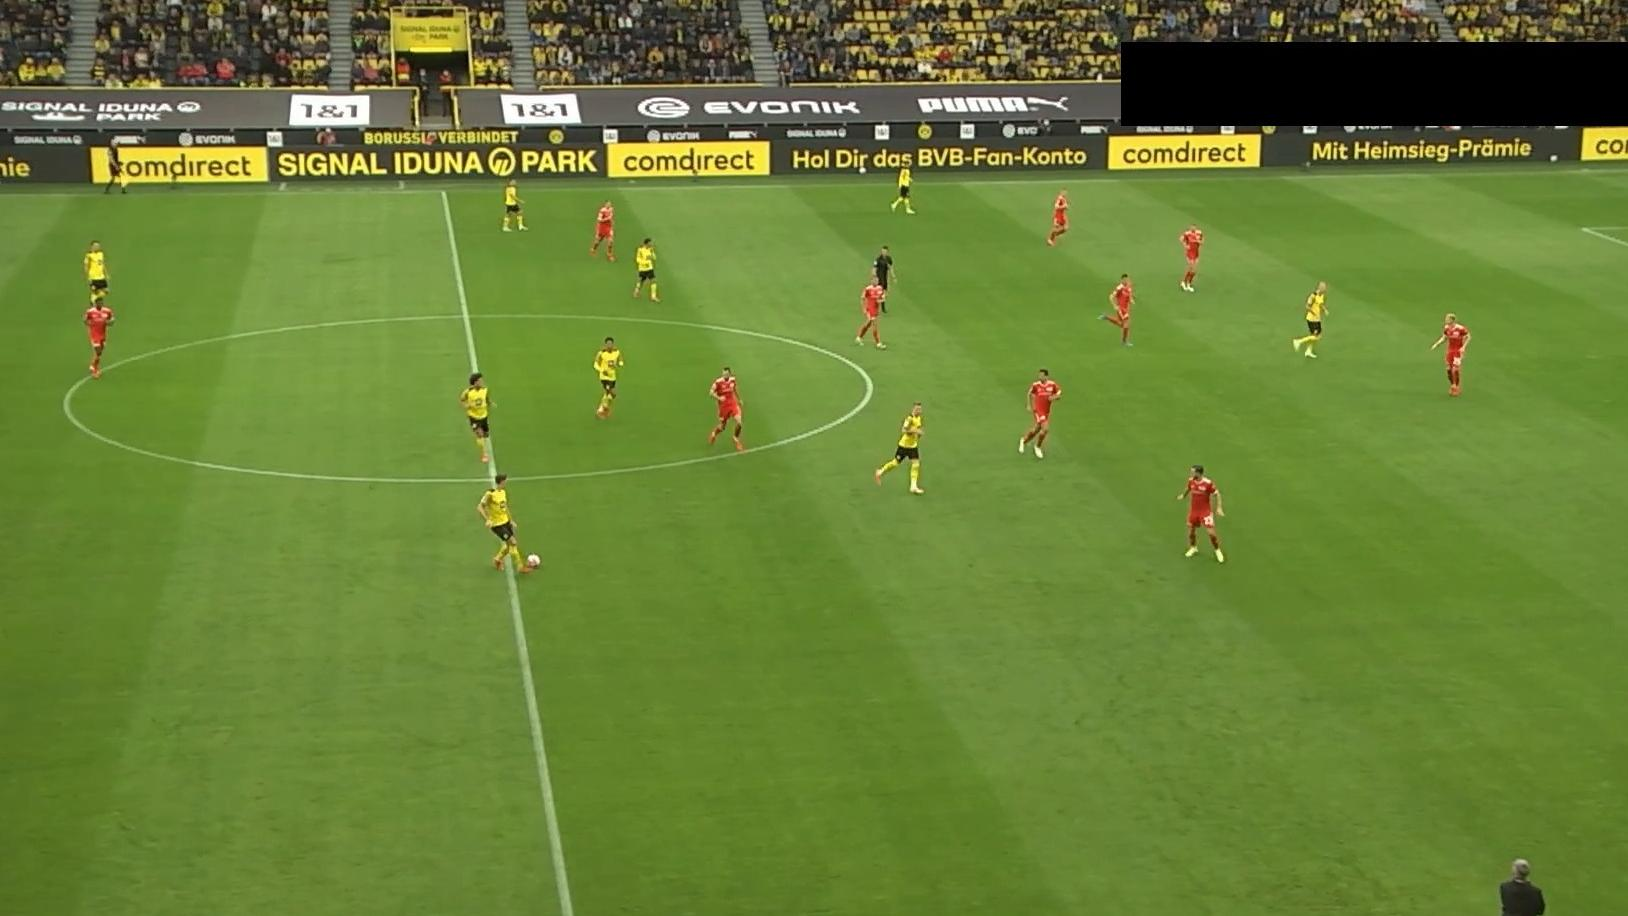ball: (524, 551, 542, 570)
